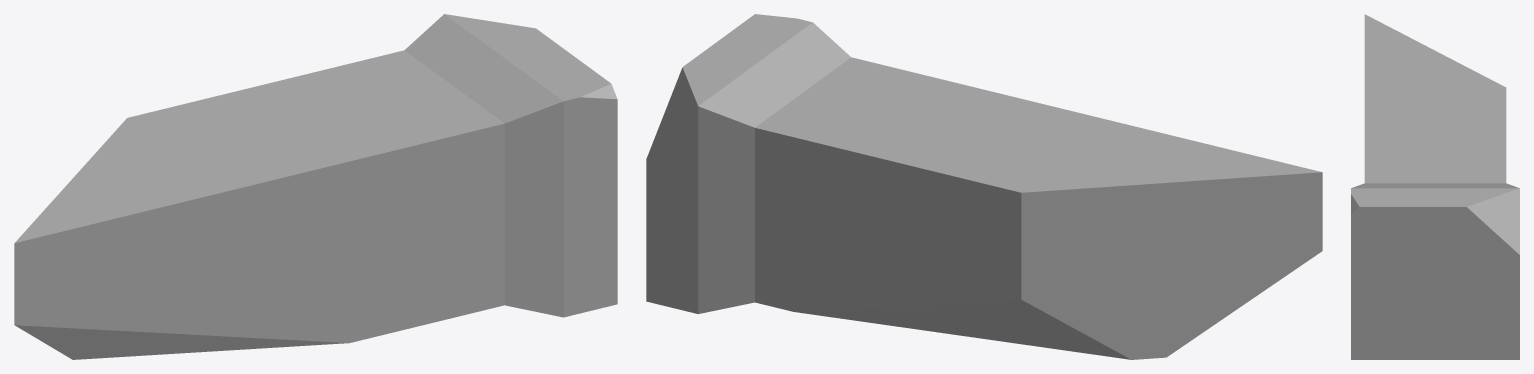
File: pillar.glb
3 views of the same model, side by side, from view 1: azimuth 30°, elevation 25°; view 2: azimuth 150°, elevation 25°; view 3: azimuth 270°, elevation 25° (orthographic). The views are drawn at different scales.
Visible parts, largest first — view 1: pillar; view 2: pillar; view 3: pillar.
Part boxes in pixels (x1,y1,x2,y2): pillar: (14,14,617,359); pillar: (646,14,1322,359); pillar: (1351,14,1519,359).
Size of the model in its own units: 1.26 by 0.4398 by 0.4398.
Materials: 1 (1 with a texture image).
